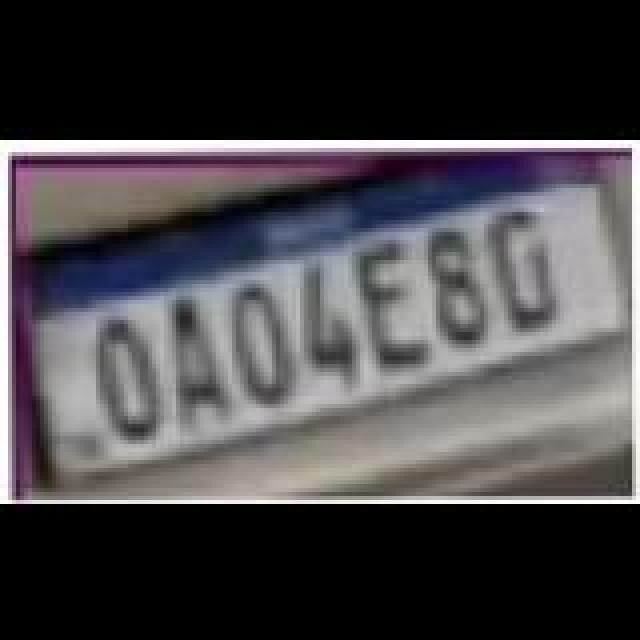4: (298, 262, 366, 386)
8: (424, 228, 496, 348)
A: (164, 294, 236, 426)
D: (490, 208, 566, 328)
E: (356, 240, 436, 368)
O: (94, 312, 170, 440), (228, 284, 300, 404)
